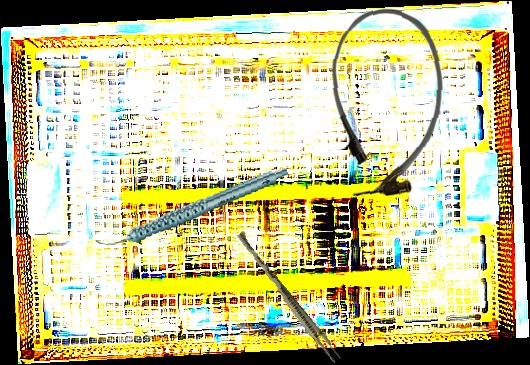Cannula: (326, 6, 446, 200)
Handpiece: (89, 167, 295, 250)
Tissue Forceps: (231, 230, 345, 365)
